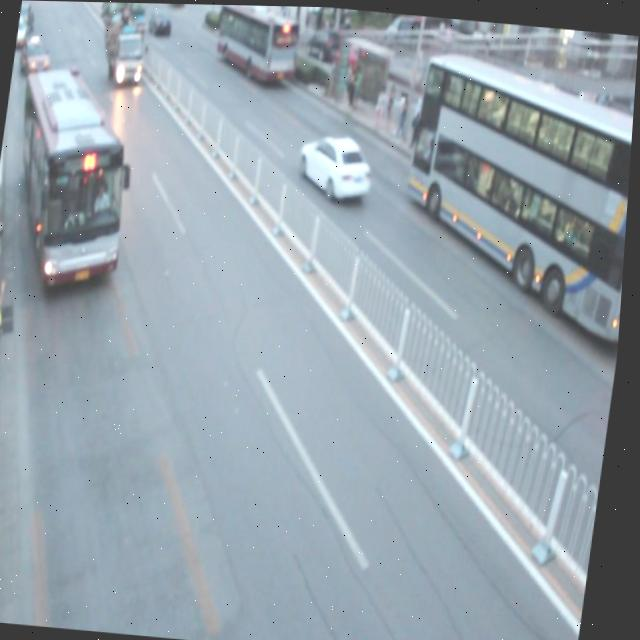bus: (94, 2, 152, 89)
car: (296, 128, 378, 202), (18, 33, 55, 82)
van: (394, 52, 638, 334), (2, 65, 144, 292), (211, 4, 303, 85)
